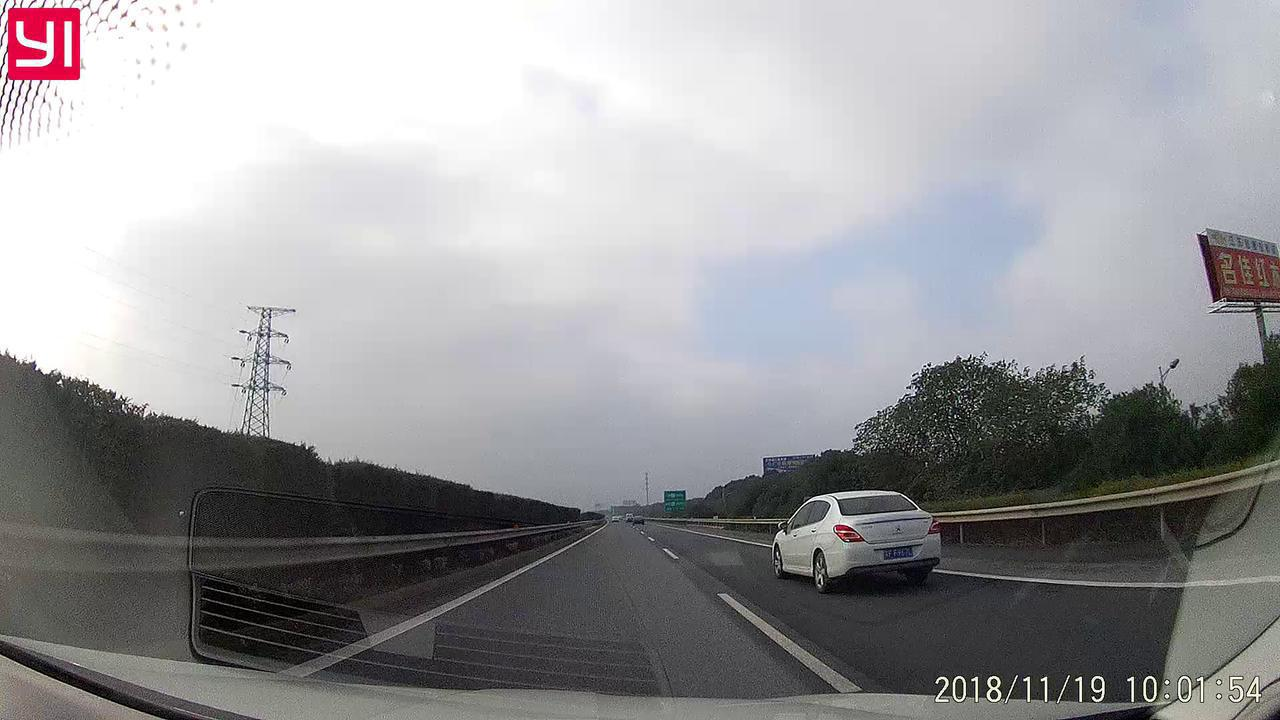car: (770, 490, 942, 591)
